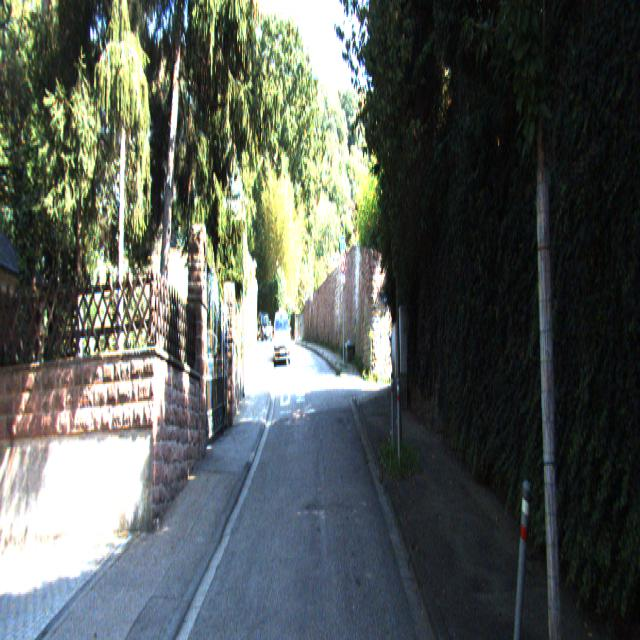Car: (273, 311, 290, 370), (258, 314, 272, 346)
